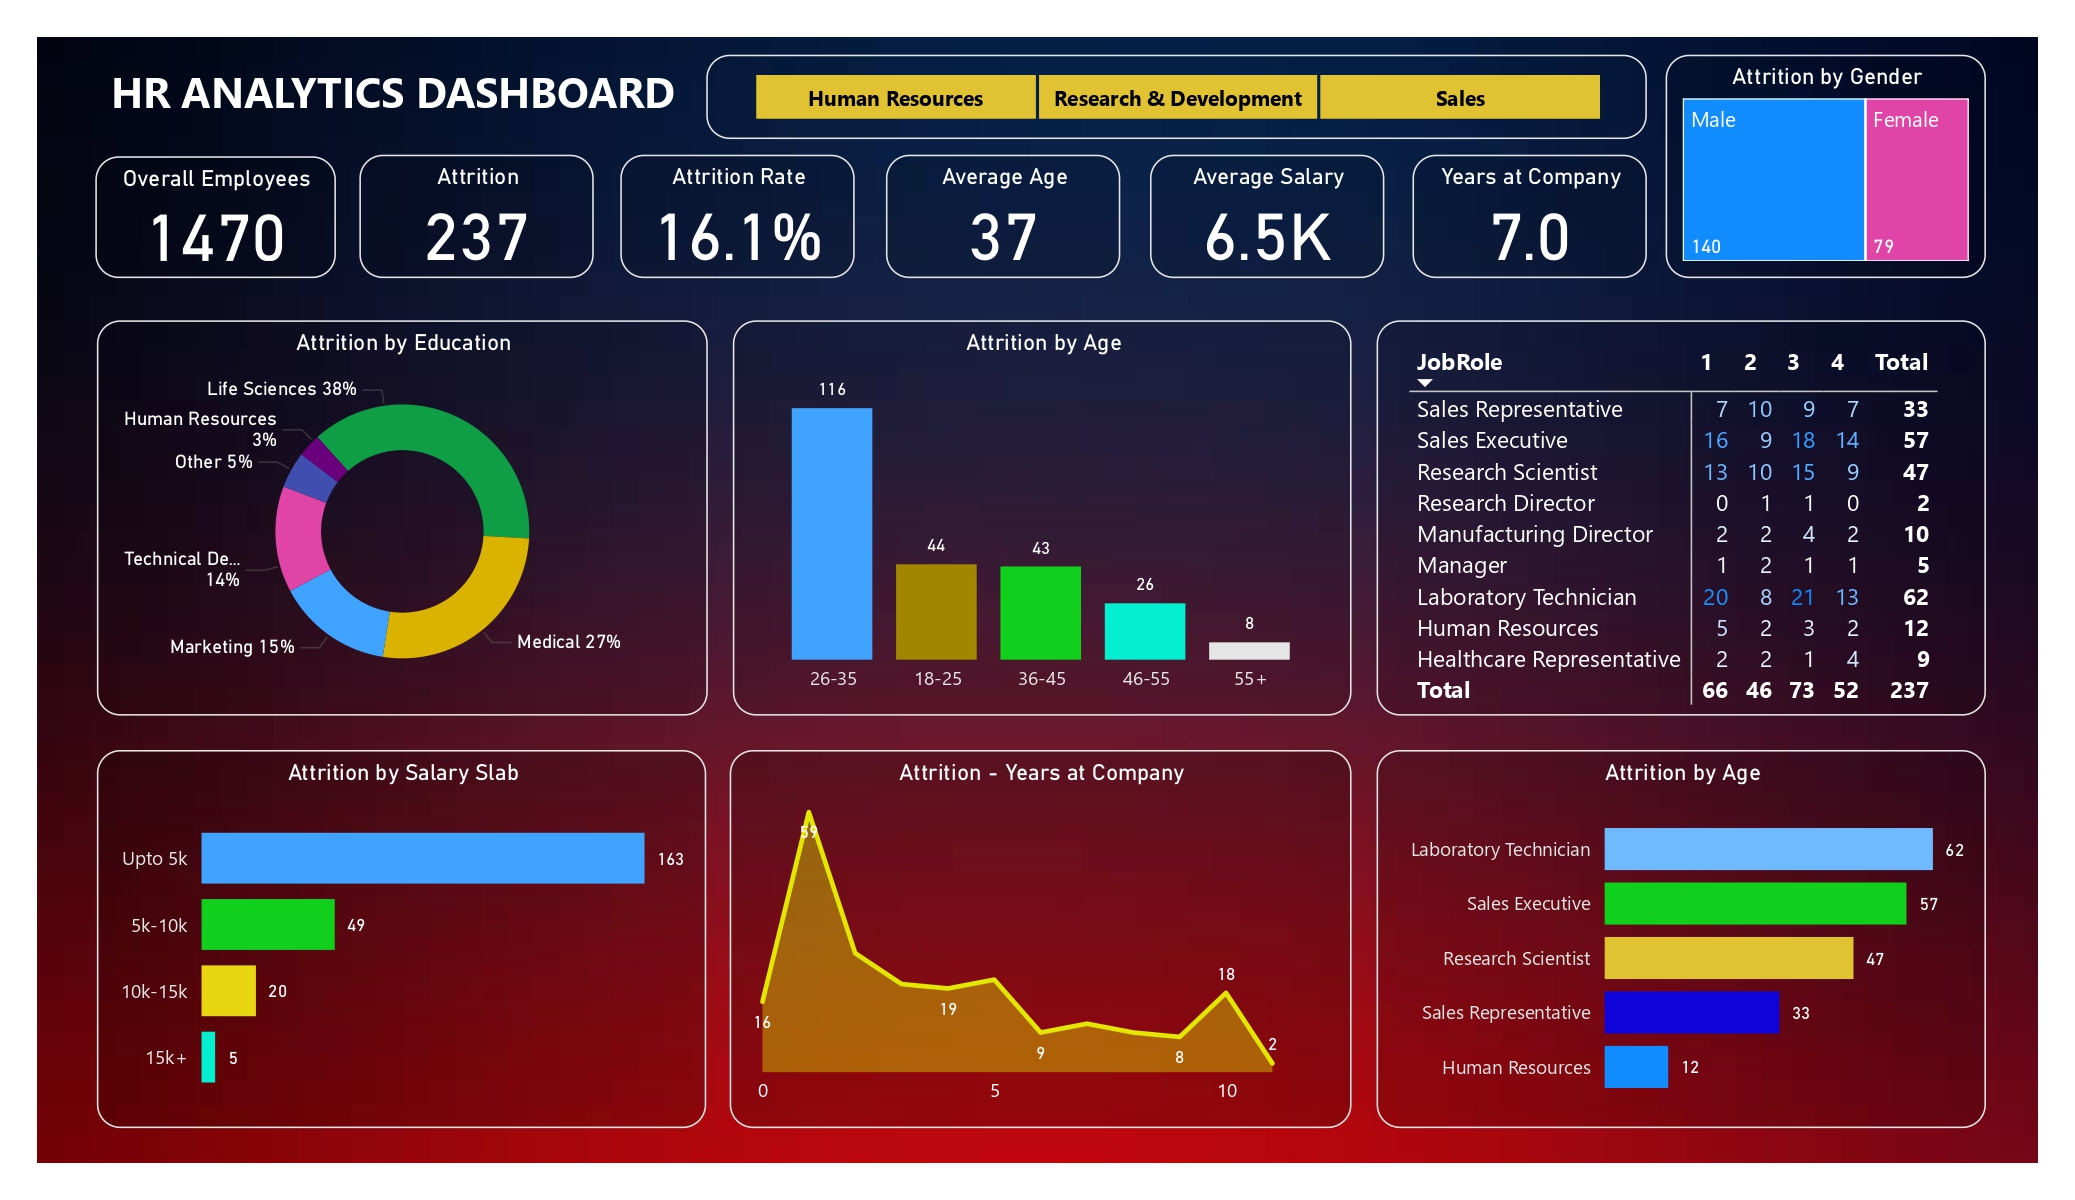

Layout of this report page (visuals, bound fields, positions):
{"tool":"powerbi","page":{"name":"Page 1","canvas":[1280,720],"ordinal":0},"visuals":[{"type":"card","title":"Overall Employees","fields":{"Values":["CountNonNull(HR_Analytics.EmpID)"]},"box":[37.1,75.5,153.9,78.4],"z":0},{"type":"card","title":"Attrition","fields":{"Values":["Sum(HR_Analytics.AttritionCount)"]},"box":[206,75.1,150.1,78.7],"z":1000},{"type":"card","title":"Attrition Rate","fields":{"Values":["HR_Analytics.AttritionRate"]},"box":[373.1,75.1,150.1,78.7],"z":2000},{"type":"card","title":"Average Age","fields":{"Values":["Avg(HR_Analytics.Age)"]},"box":[542.5,75.1,150.1,78.7],"z":3000},{"type":"card","title":"Average Salary","fields":{"Values":["Avg(HR_Analytics.MonthlyIncome)"]},"box":[712,75.1,150.1,78.7],"z":4000},{"type":"card","title":"Years at Company","fields":{"Values":["Avg(HR_Analytics.YearsAtCompany)"]},"box":[880.3,75.1,150.1,78.7],"z":5000},{"type":"textbox","box":[37,11,381,55],"z":6000},{"type":"donutChart","title":"Attrition by Education","fields":{"Category":["HR_Analytics.EducationField"],"Y":["Sum(HR_Analytics.AttritionCount)"]},"box":[38,181,391,253],"z":7000},{"type":"columnChart","title":"Attrition by Age","fields":{"Category":["HR_Analytics.AgeGroup"],"Y":["Sum(HR_Analytics.AttritionCount)"]},"box":[445,181,396,253],"z":8000},{"type":"barChart","title":"Attrition by Salary Slab","fields":{"Category":["HR_Analytics.SalarySlab"],"Y":["Sum(HR_Analytics.AttritionCount)"]},"box":[38,456,390,242],"z":9000},{"type":"areaChart","title":"Attrition - Years at Company","fields":{"Category":["HR_Analytics.YearsAtCompany"],"Y":["Sum(HR_Analytics.AttritionCount)"]},"box":[443,456,398,242],"z":10000},{"type":"barChart","title":"Attrition by Age","fields":{"Category":["HR_Analytics.JobRole"],"Y":["Sum(HR_Analytics.AttritionCount)"]},"box":[857,456,390,242],"z":11000},{"type":"pivotTable","fields":{"Rows":["HR_Analytics.JobRole"],"Columns":["HR_Analytics.JobSatisfaction"],"Values":["Sum(HR_Analytics.AttritionCount)"]},"box":[857,181,390,253],"z":12000},{"type":"treemap","title":"Attrition by Gender","fields":{"Group":["HR_Analytics.Gender"],"Values":["Sum(HR_Analytics.AttritionCount)"]},"box":[1042,11,205,143],"z":13000},{"type":"slicer","fields":{"Values":["HR_Analytics.Department"]},"box":[428,11,602,54],"z":14000}]}

Visuals, with their boxes in screenshot pixels (x1, y1, x2, y2):
"Overall Employees" card: {"left": 29, "top": 136, "right": 284, "bottom": 266}
"Attrition" card: {"left": 309, "top": 135, "right": 558, "bottom": 266}
"Attrition Rate" card: {"left": 586, "top": 135, "right": 835, "bottom": 266}
"Average Age" card: {"left": 867, "top": 135, "right": 1116, "bottom": 266}
"Average Salary" card: {"left": 1148, "top": 135, "right": 1396, "bottom": 266}
"Years at Company" card: {"left": 1427, "top": 135, "right": 1675, "bottom": 266}
textbox: {"left": 29, "top": 29, "right": 660, "bottom": 120}
"Attrition by Education" donutChart: {"left": 31, "top": 311, "right": 679, "bottom": 730}
"Attrition by Age" columnChart: {"left": 705, "top": 311, "right": 1361, "bottom": 730}
"Attrition by Salary Slab" barChart: {"left": 31, "top": 767, "right": 677, "bottom": 1168}
"Attrition - Years at Company" areaChart: {"left": 702, "top": 767, "right": 1361, "bottom": 1168}
"Attrition by Age" barChart: {"left": 1388, "top": 767, "right": 2034, "bottom": 1168}
pivotTable - HR_Analytics.JobRole x HR_Analytics.JobSatisfaction: {"left": 1388, "top": 311, "right": 2034, "bottom": 730}
"Attrition by Gender" treemap: {"left": 1695, "top": 29, "right": 2034, "bottom": 266}
slicer - HR_Analytics.Department: {"left": 677, "top": 29, "right": 1675, "bottom": 119}
